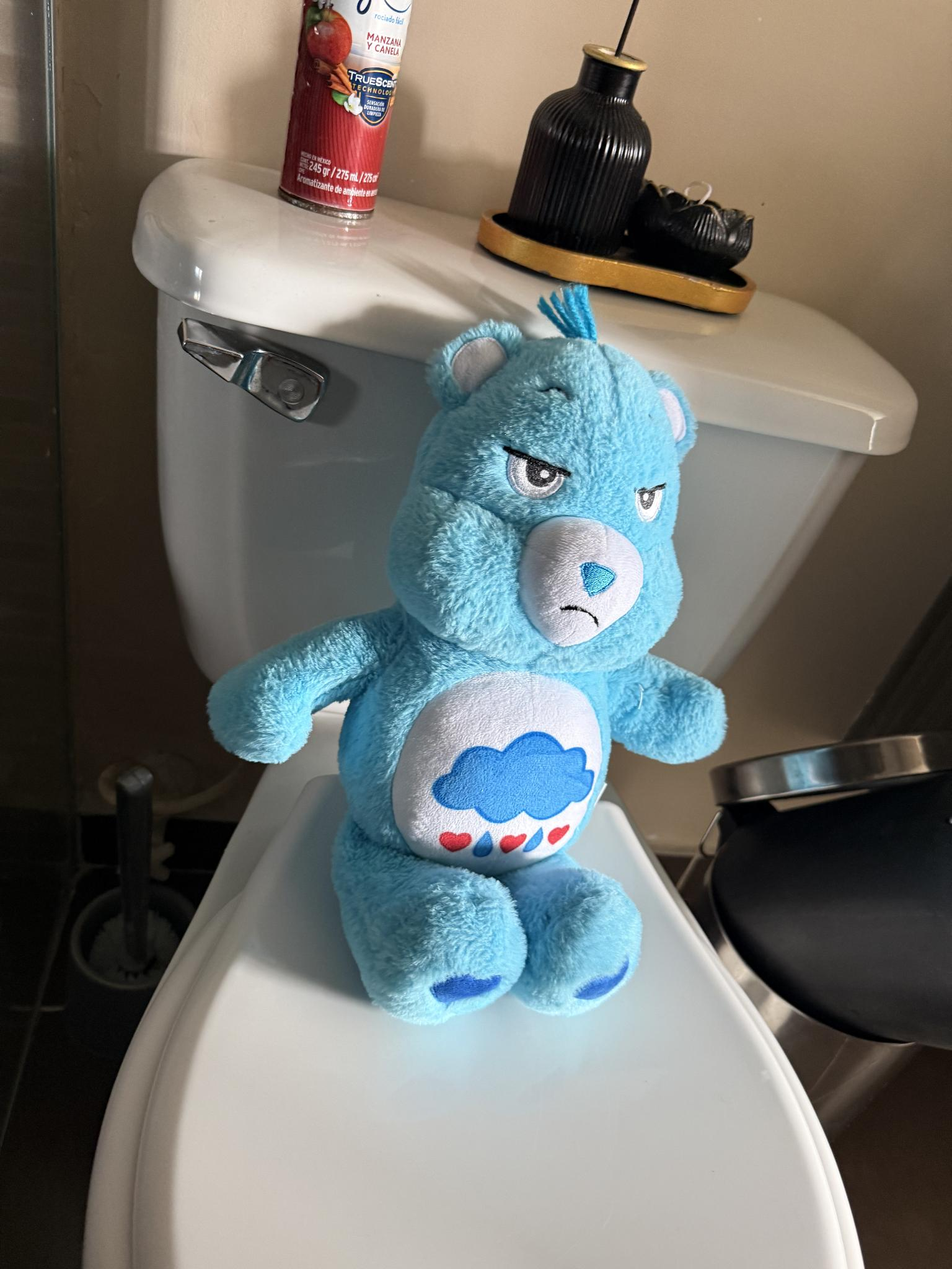peluche_Juan Jose: (206, 280, 727, 1027)
